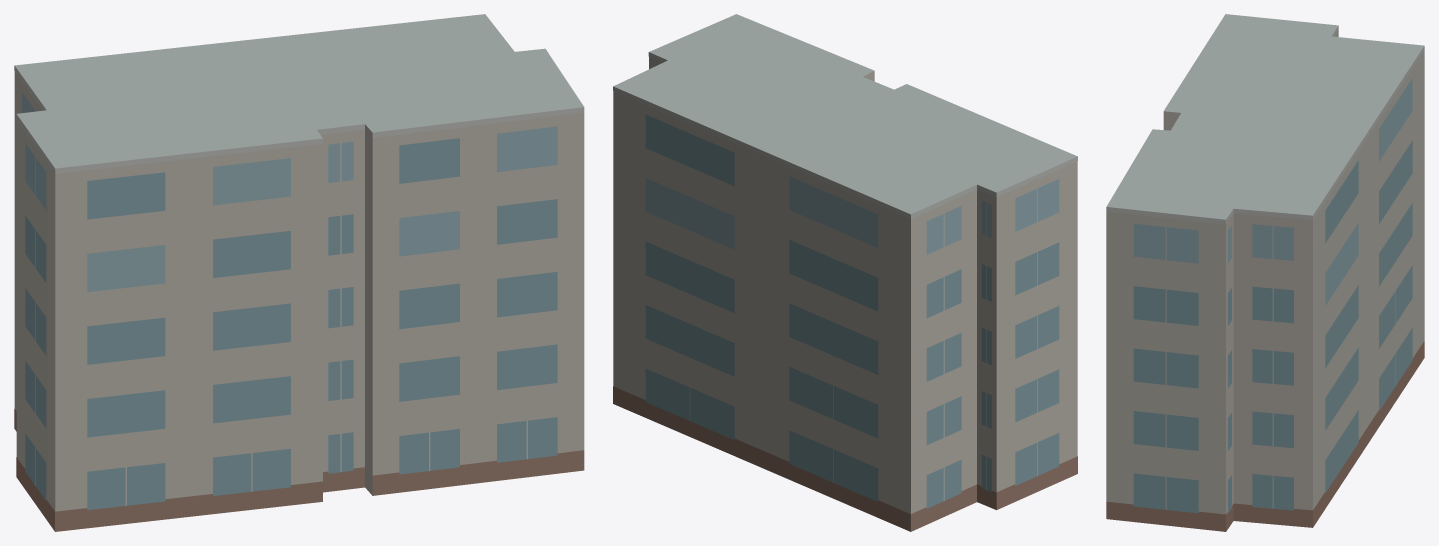
The model's file is survey-upis-32994776.glb.
The picture shows the model from 3 angles, left to right: view 1: azimuth 30°, elevation 25°; view 2: azimuth 150°, elevation 25°; view 3: azimuth 270°, elevation 25°; orthographic projection. The views are drawn at different scales.
Parts seen in each view (by area): view 1: survey-upis-32994776.tmp; view 2: survey-upis-32994776.tmp; view 3: survey-upis-32994776.tmp.
Part boxes in pixels (x1,y1,x2,y2): survey-upis-32994776.tmp: [14, 14, 584, 531]; survey-upis-32994776.tmp: [613, 14, 1077, 531]; survey-upis-32994776.tmp: [1106, 14, 1424, 531].
Bounding box in the file's own units: 23.04 × 16.3 × 15.07.
